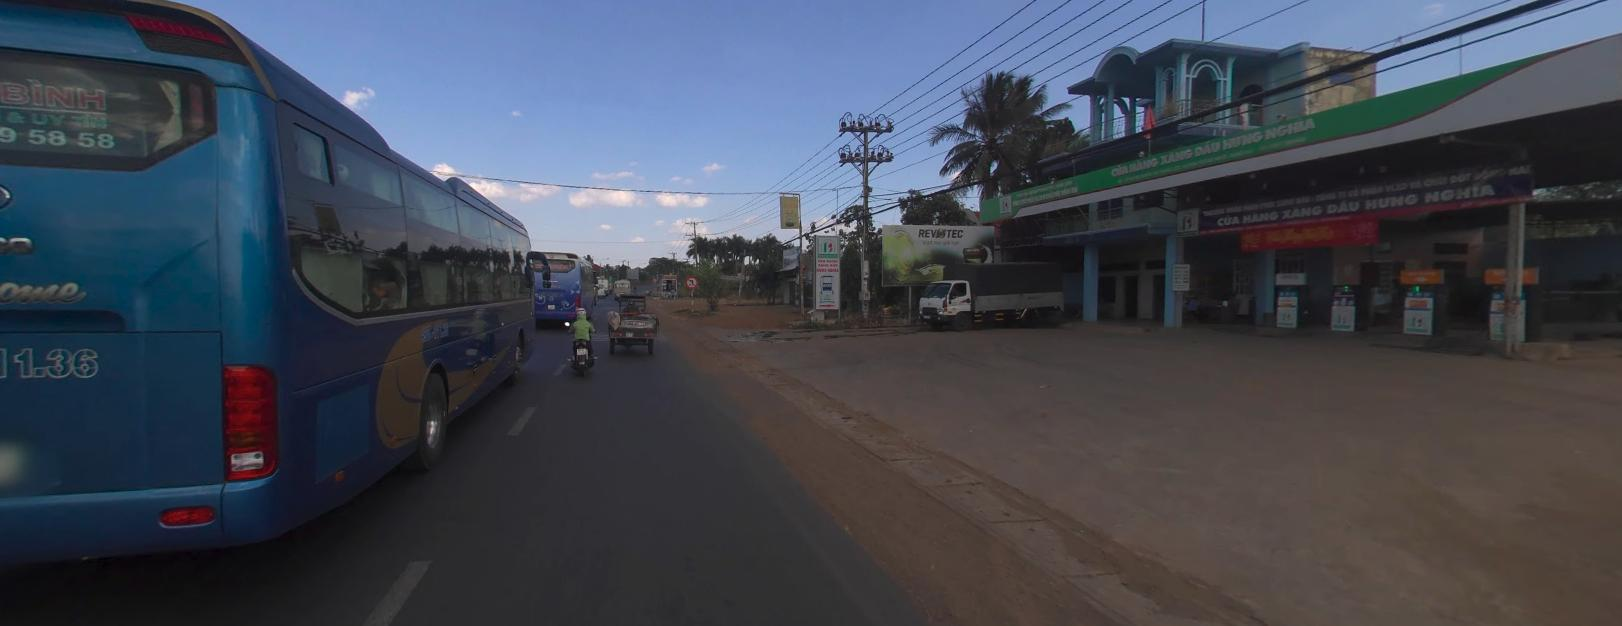Cam re: (685, 274, 698, 287), (686, 274, 697, 286)
